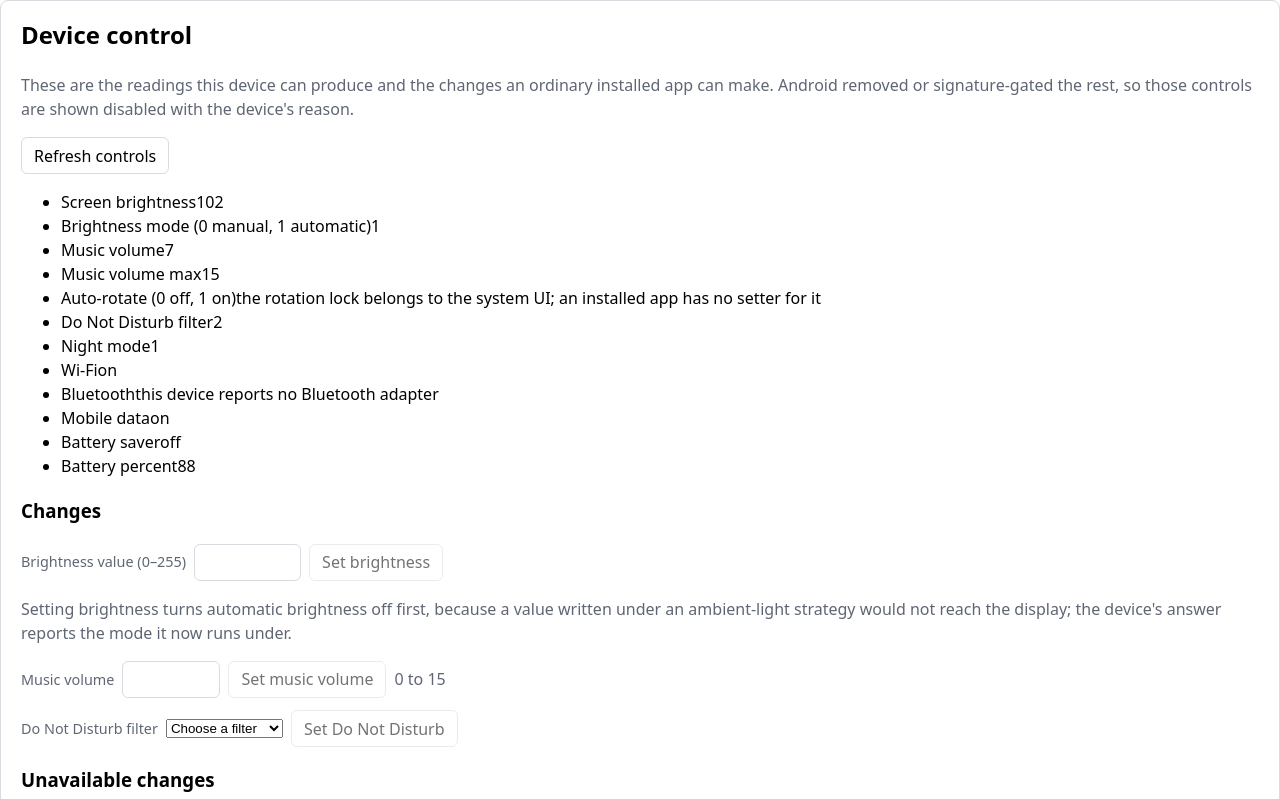
Test case: the control panel › re-reads brightness when the device's ok answer cannot be read
This screenshot has width=1280, height=799.
Expected: the list named "control readings" is shown, [61,191,821,477]
In the number field labelled "Brightness value (0–255)": (248, 562) [194,544,301,581], type "120"
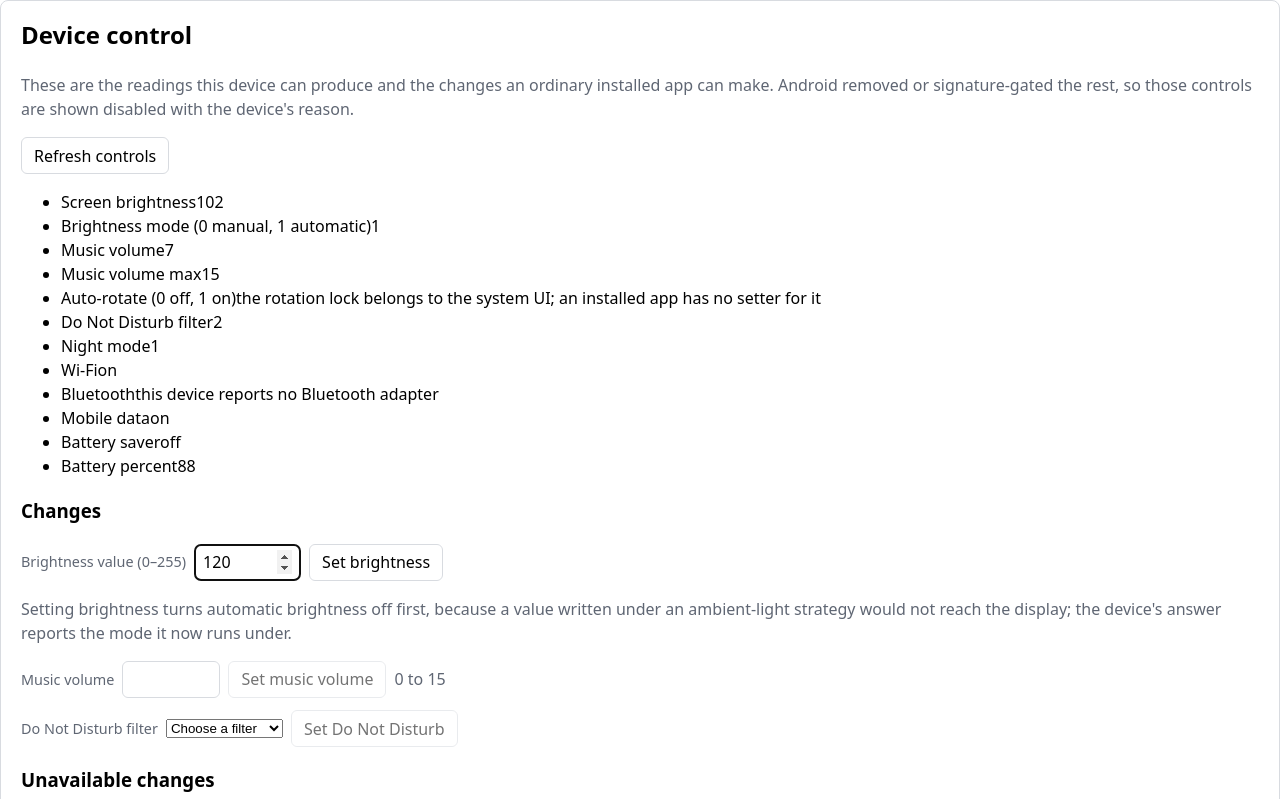
Click the button "Set brightness": (376, 562) [309,544,443,581]
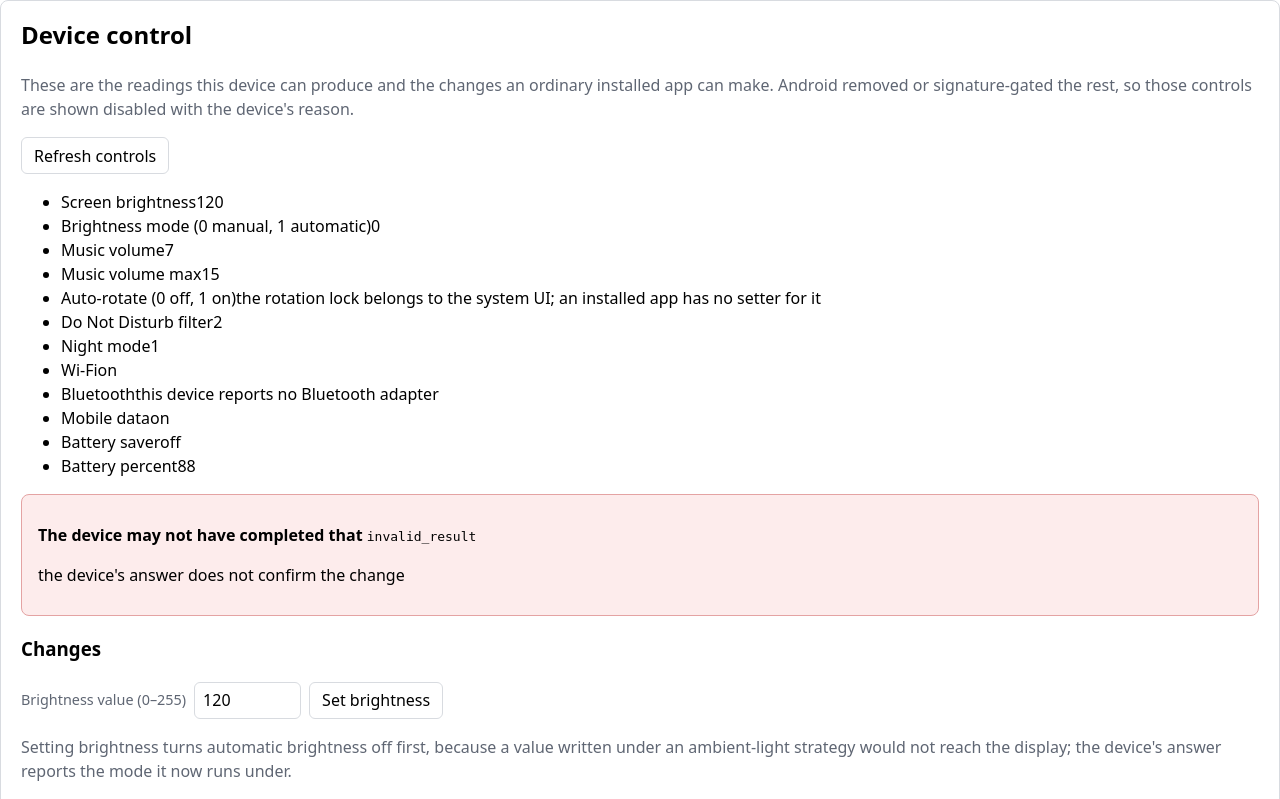
Expected: the message does not show "did not do that", [21,494,1259,616]
Expected: the message shows "invalid_result", [367,529,476,544]
Expected: the message shows "may not have completed that", [38,524,363,546]
